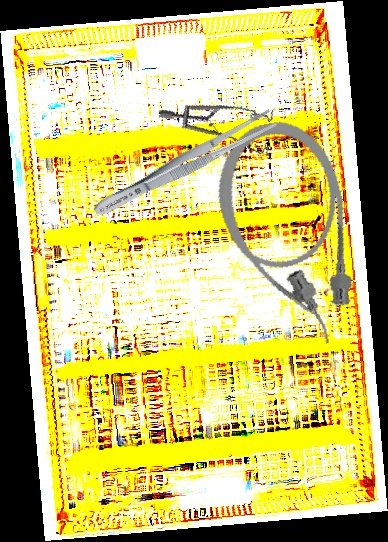Cannula: (206, 112, 369, 359)
Dressing Forceps: (89, 105, 279, 224)
Speculum: (157, 78, 286, 183)
